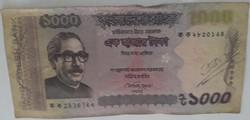1000 taka: (4, 9, 242, 113)
